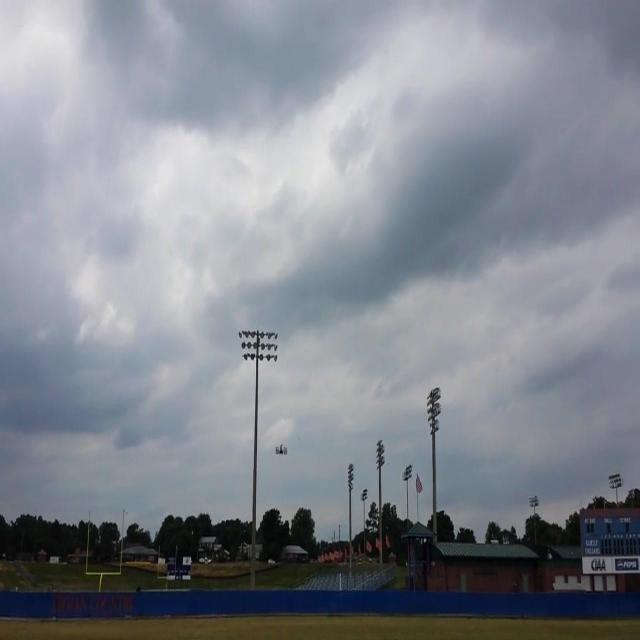UAV: (275, 444, 287, 456)
